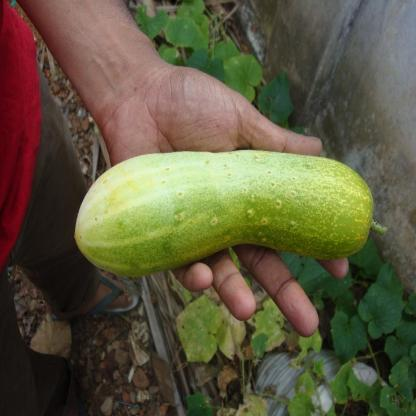--: (67, 148, 393, 278)
